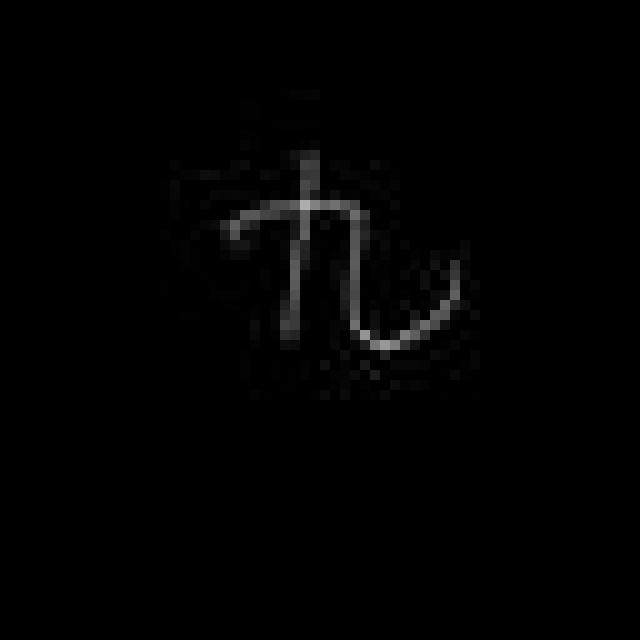9 -nine-: (220, 147, 464, 353)
